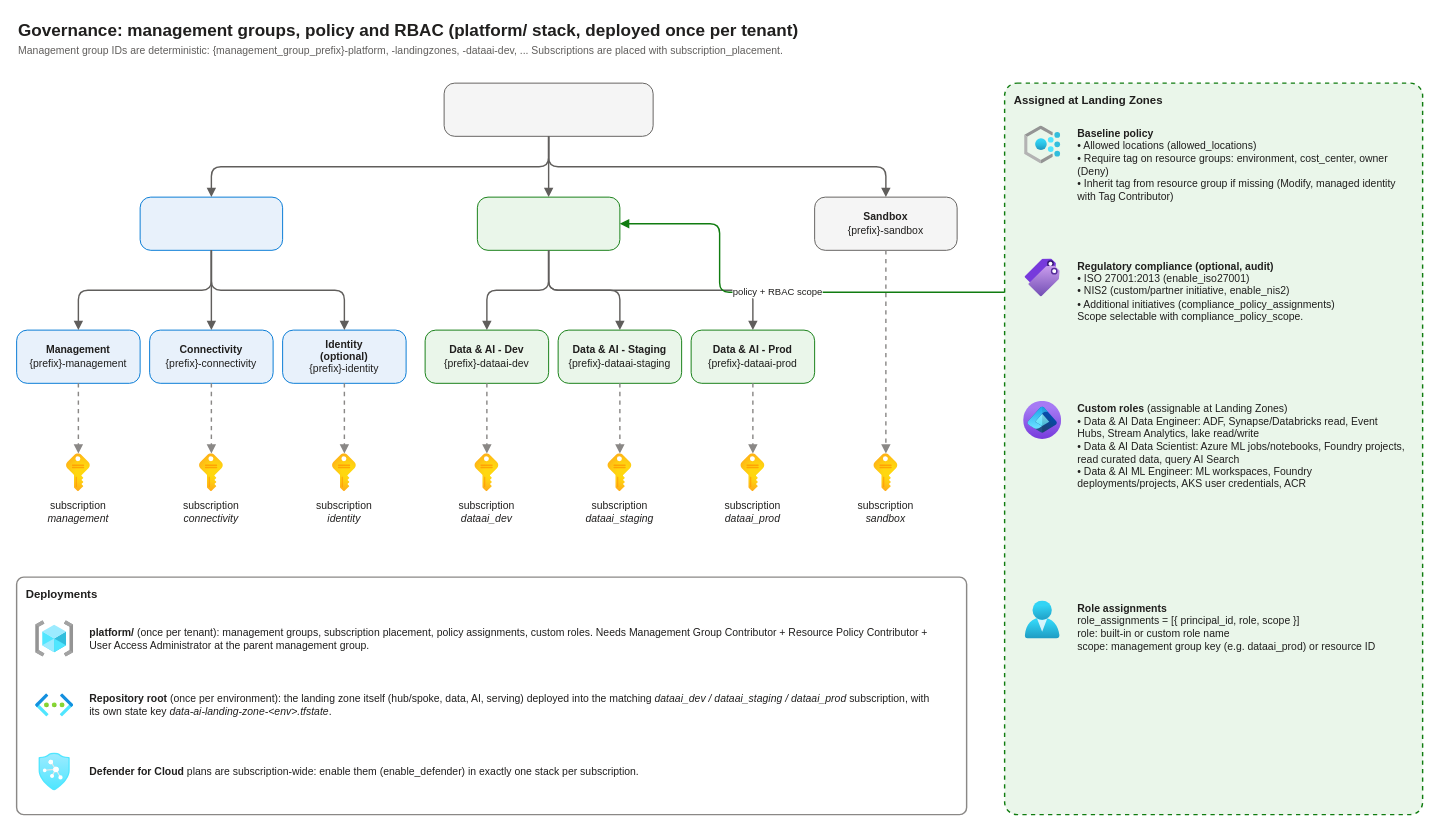
This 1440x831 diagram has some shape labels left out. Here are the shapes that lost their labels. From the top down, the centre of each, then its label:
At (x=548, y=109): "Tenant root group (or management_group_parent_id)".
At (x=211, y=223): "Platform {prefix}-platform".
At (x=548, y=223): "Landing Zones {prefix}-landingzones".
